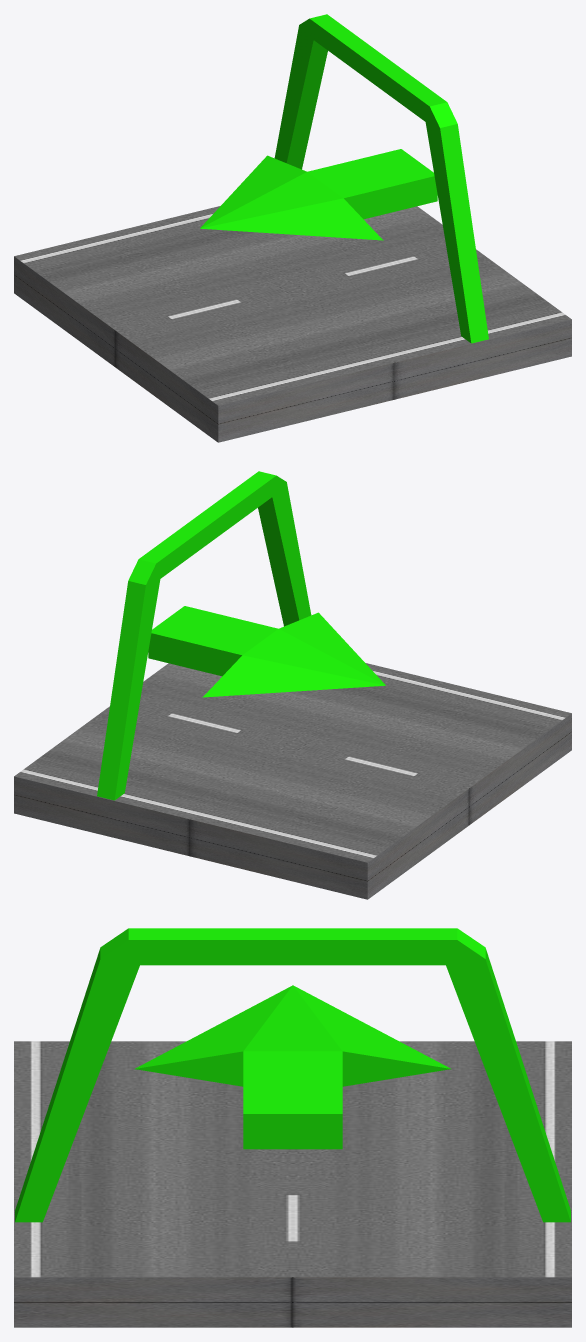
File: start.fbx
3 views of the same model, one above another, from view 1: azimuth 30°, elevation 25°; view 2: azimuth 150°, elevation 25°; view 3: azimuth 270°, elevation 25° (orthographic). The views are drawn at different scales.
Visible parts, largest first — view 1: start, gate, arrow; view 2: start, gate, arrow; view 3: start, gate, arrow.
Boxes of the visible parts, x1,y1,x2,y2 form: start: (14,206,571,442); gate: (274,14,488,343); arrow: (200,149,437,240); start: (14,663,571,899); gate: (97,471,311,800); arrow: (148,606,385,697); start: (14,1041,571,1327); gate: (15,928,570,1222); arrow: (135,985,450,1149).
Size of the model in its own units: 394 by 259 by 394.
3 materials, 2 textured.
